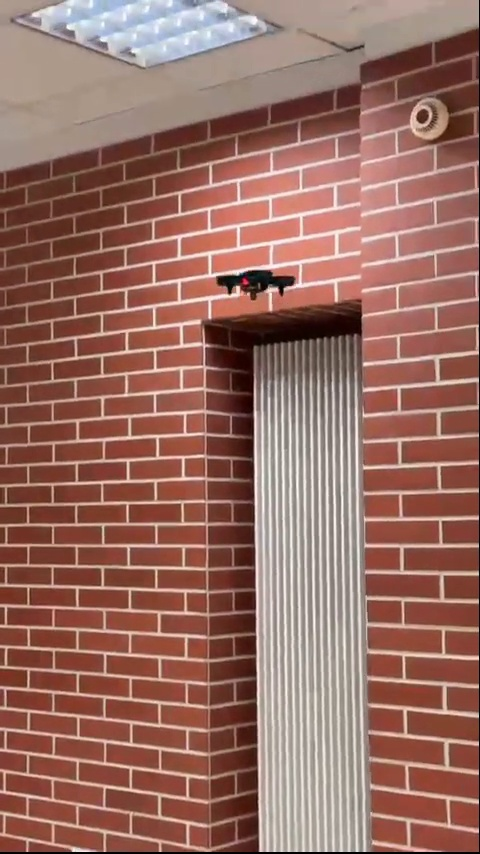drone: (213, 270, 305, 298)
